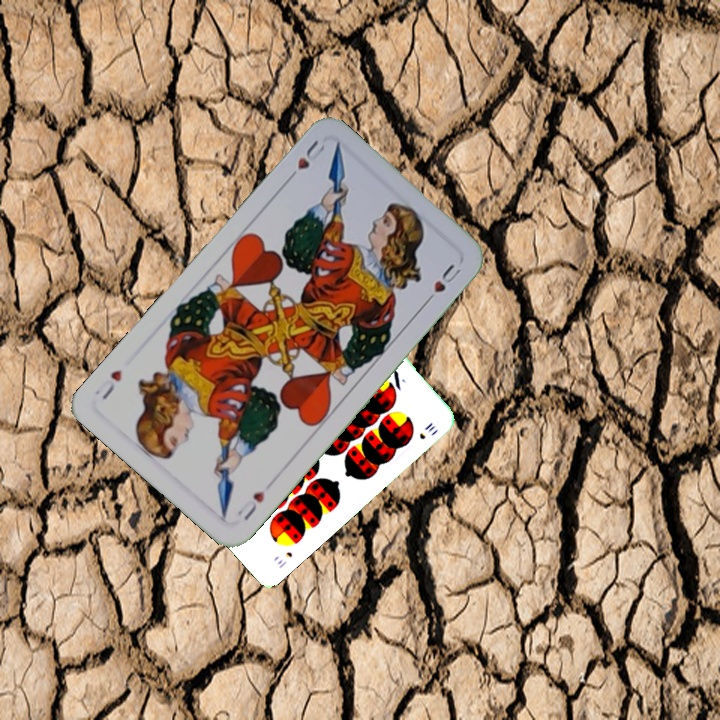HU: (282, 136, 330, 185), (233, 486, 268, 523)
S10: (273, 548, 295, 571)
